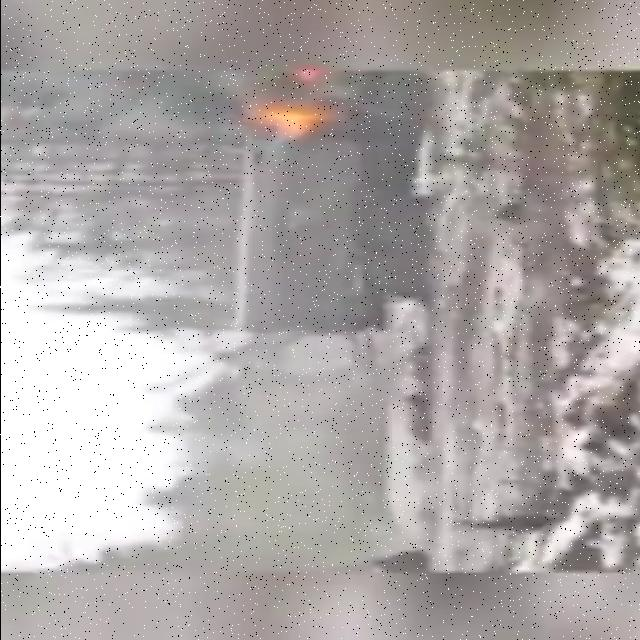TRUCK: (227, 74, 429, 340)
